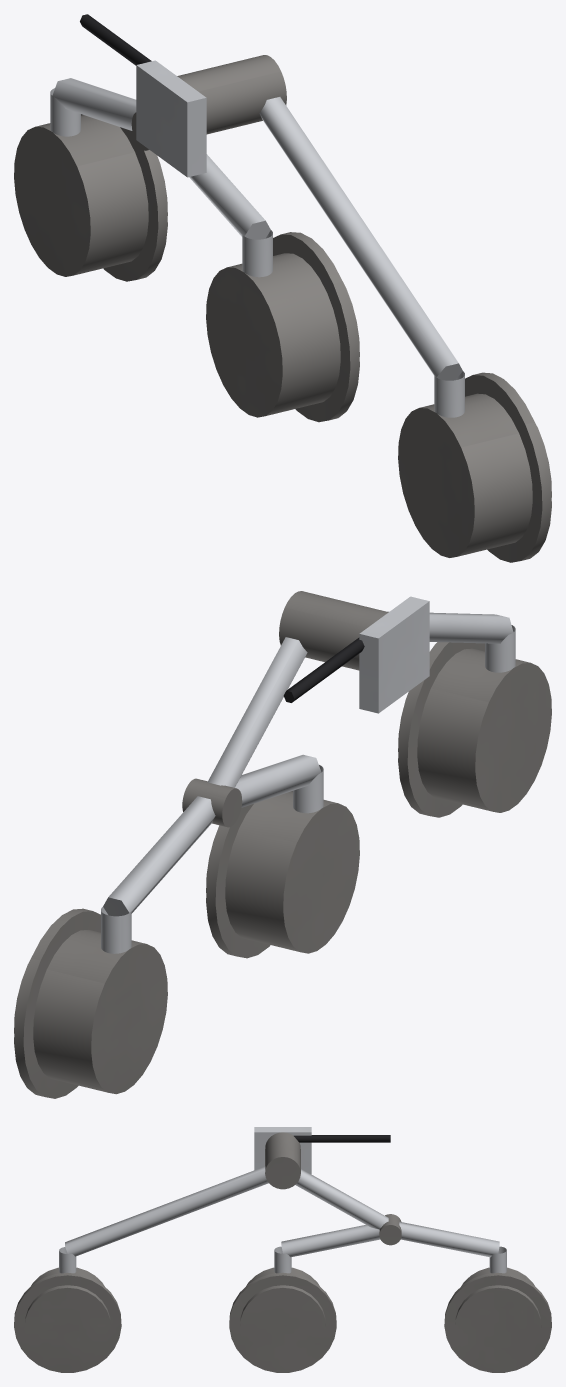
The model's file is rover16_rocker_bogie_xs.glb.
The picture shows the model from 3 angles, top to bottom: view 1: azimuth 30°, elevation 25°; view 2: azimuth 150°, elevation 25°; view 3: azimuth 270°, elevation 25°; orthographic projection. The views are drawn at different scales.
Parts seen in each view (by area): view 1: bogie_flange_2, wheel_flange_1, bogie_flange_3, rocker, bogie_beam, mount_plate, pivot, differential_link; view 2: bogie_flange_3, wheel_flange_1, bogie_flange_2, bogie_beam, rocker, mount_plate, pivot, bogie_pivot, differential_link; view 3: bogie_flange_2, wheel_flange_1, bogie_flange_3, rocker, bogie_beam, pivot, mount_plate, differential_link, bogie_pivot.
Part boxes in pixels (x1=…): bogie_flange_2: x1=206, y1=232, x2=359, y2=422; wheel_flange_1: x1=398, y1=372, x2=551, y2=562; bogie_flange_3: x1=14, y1=114, x2=167, y2=281; rocker: x1=259, y1=97, x2=464, y2=417; bogie_beam: x1=50, y1=78, x2=272, y2=277; mount_plate: x1=136, y1=60, x2=206, y2=177; pivot: x1=177, y1=55, x2=286, y2=134; differential_link: x1=80, y1=14, x2=151, y2=65; bogie_flange_3: x1=14, y1=908, x2=167, y2=1098; wheel_flange_1: x1=398, y1=642, x2=551, y2=817; bogie_flange_2: x1=206, y1=791, x2=359, y2=958; bogie_beam: x1=101, y1=754, x2=323, y2=953; rocker: x1=207, y1=611, x2=515, y2=787; mount_plate: x1=359, y1=596, x2=429, y2=713; pivot: x1=279, y1=591, x2=388, y2=670; bogie_pivot: x1=182, y1=778, x2=242, y2=827; differential_link: x1=283, y1=637, x2=364, y2=702; bogie_flange_2: x1=229, y1=1267, x2=336, y2=1372; wheel_flange_1: x1=14, y1=1267, x2=121, y2=1372; bogie_flange_3: x1=444, y1=1267, x2=551, y2=1372; rocker: x1=59, y1=1166, x2=388, y2=1273; bogie_beam: x1=274, y1=1221, x2=506, y2=1273; pivot: x1=265, y1=1132, x2=300, y2=1189; mount_plate: x1=254, y1=1127, x2=311, y2=1174; differential_link: x1=294, y1=1135, x2=390, y2=1142; bogie_pivot: x1=379, y1=1214, x2=401, y2=1245.
Bounding box in the file's own units: 0.12 × 0.2625 × 0.6249.
Materials: 3 (2 with a texture image).
